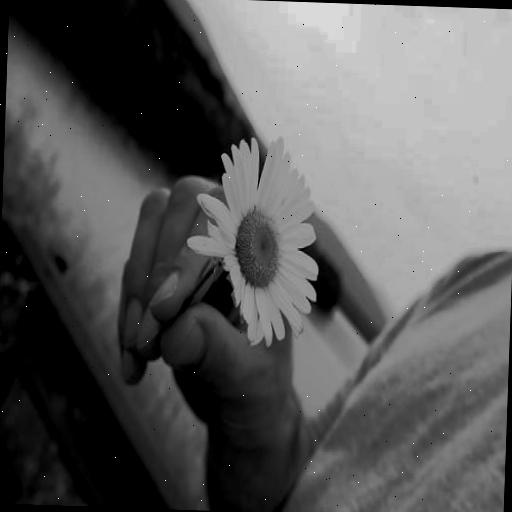daisy: (202, 148, 321, 330)
